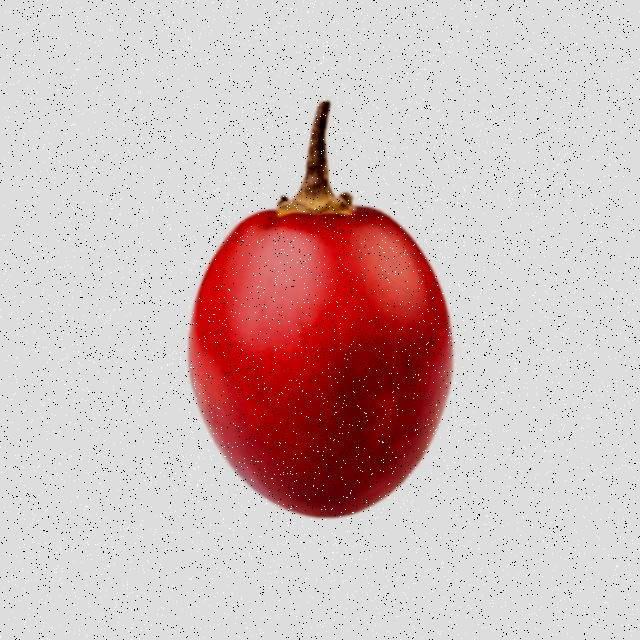Tree Tomato: (166, 93, 476, 565)
